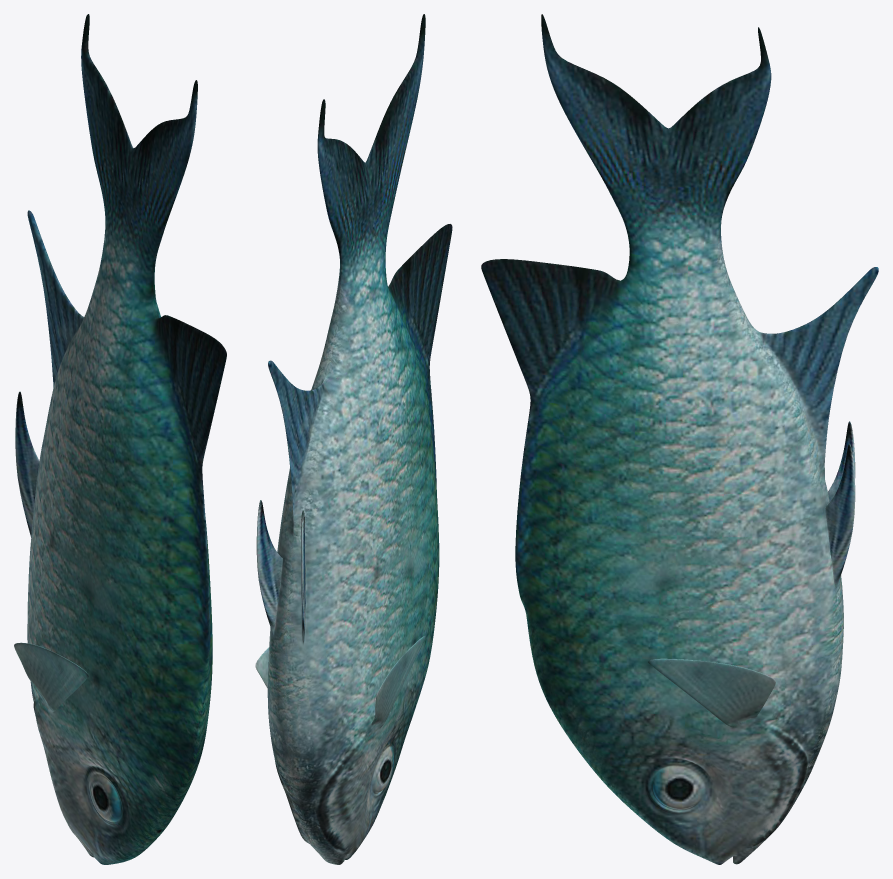
File: 13007_Blue-Green_Reef_Chromis_v2_l3.obj
3 views of the same model, side by side, from view 1: azimuth 30°, elevation 25°; view 2: azimuth 150°, elevation 25°; view 3: azimuth 270°, elevation 25° (orthographic). The views are drawn at different scales.
Parts seen in each view (by area): view 1: 13007_Blue_Green_Reef_Chromis_v1; view 2: 13007_Blue_Green_Reef_Chromis_v1; view 3: 13007_Blue_Green_Reef_Chromis_v1.
Boxes of the visible parts, x1,y1,x2,y2 form: 13007_Blue_Green_Reef_Chromis_v1: (14,14,226,864); 13007_Blue_Green_Reef_Chromis_v1: (255,14,452,864); 13007_Blue_Green_Reef_Chromis_v1: (481,14,878,864).
Size of the model in its own units: 1.25 by 7.69 by 3.26.
Materials: 1 (1 with a texture image).
